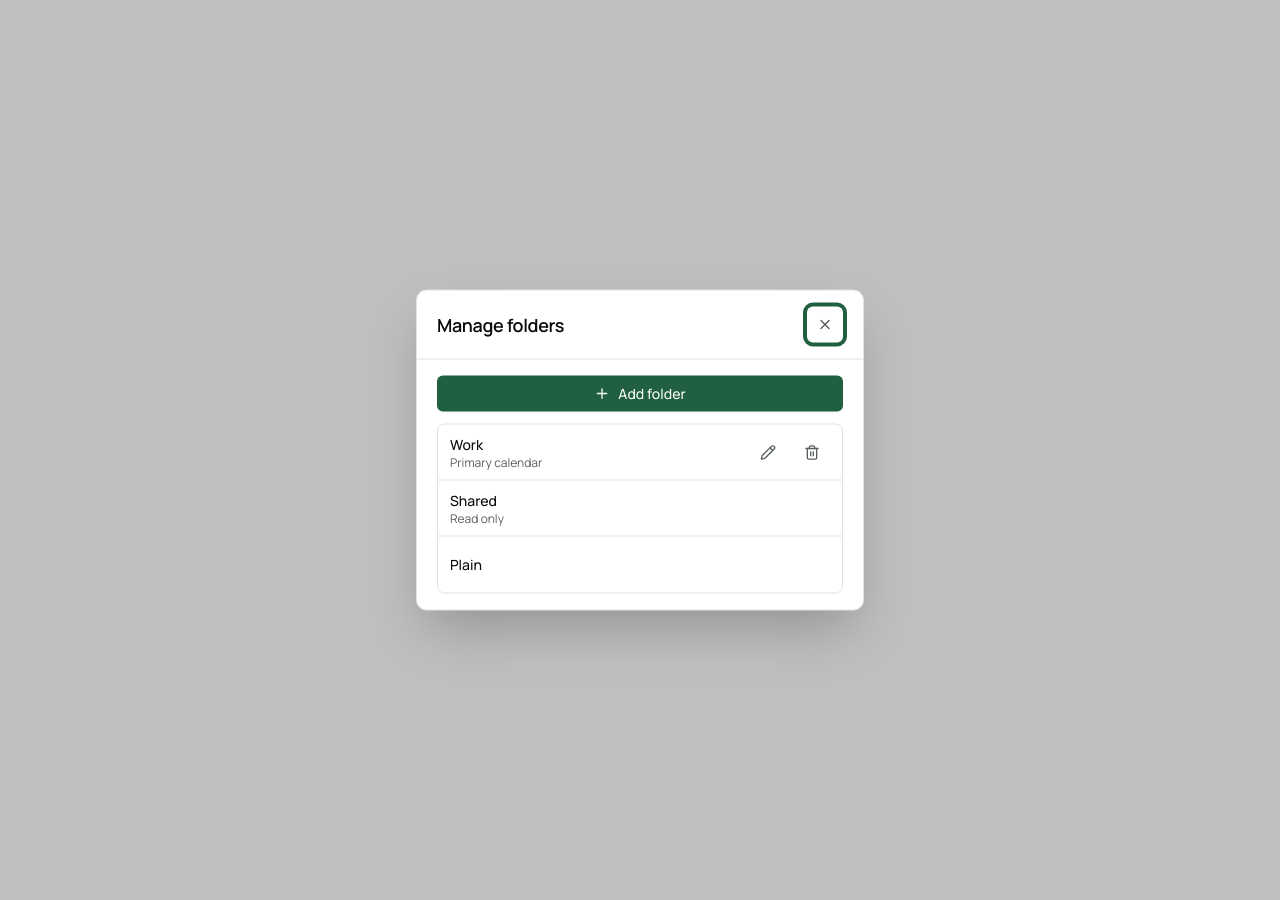
Test: ResourceManagerDialog › edits with generic retry feedback, clears stale errors, and supports cancel
Click the button named "Edit Work" at coordinates (768, 452), box x1=750 y1=434 x2=786 y2=470
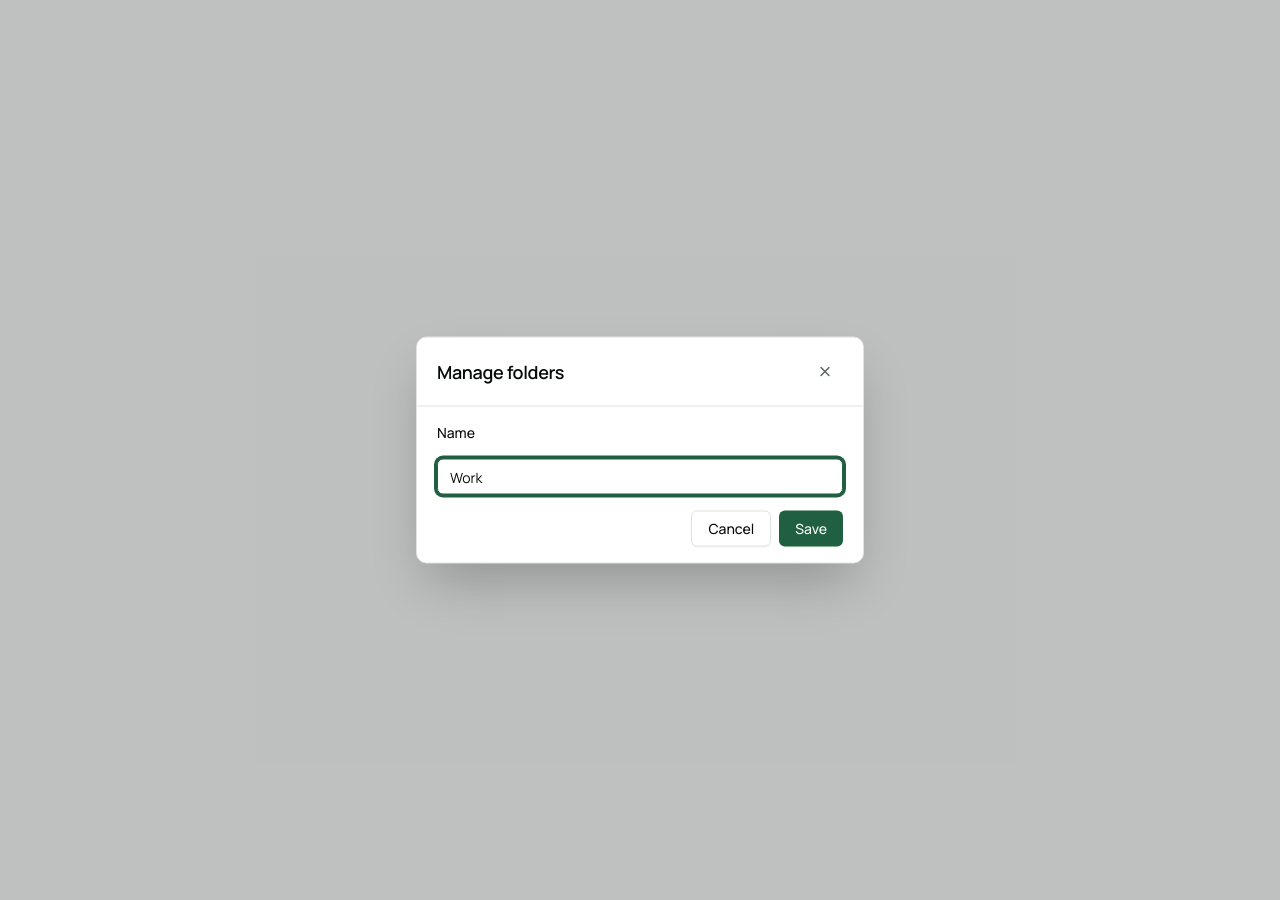
Check: the field labelled "Name" holds "Work"
Replace the text in the field labelled "Name" with "Roadmap" at coordinates (640, 476), box x1=437 y1=458 x2=843 y2=494
Click the button "Save" at coordinates (811, 528), box x1=779 y1=510 x2=843 y2=546
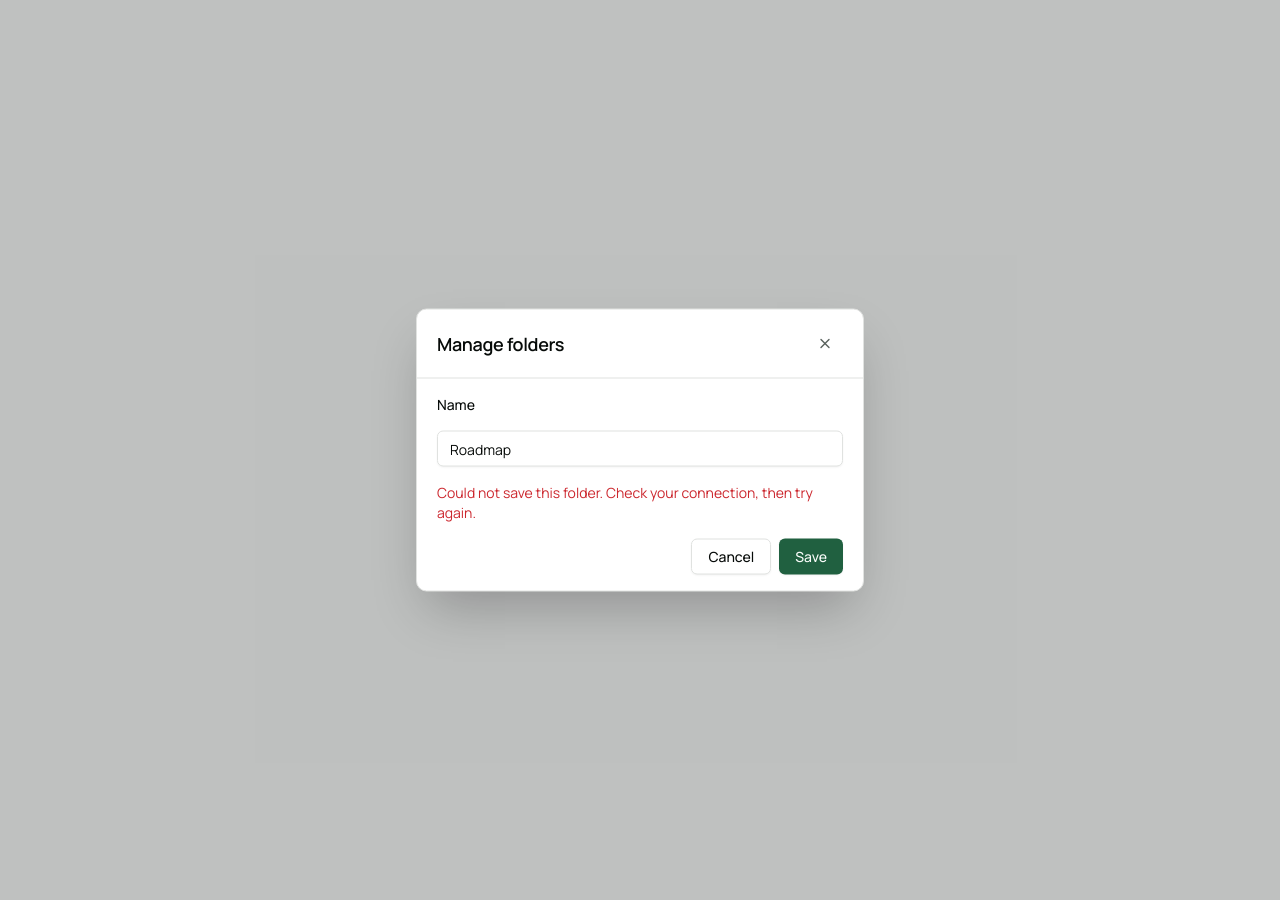
Check: the message reads "Could not save this folder. Check your connection, then try again.", box x1=437 y1=482 x2=813 y2=522
Type " 2" into the field labelled "Name" at coordinates (640, 448), box x1=437 y1=430 x2=843 y2=466
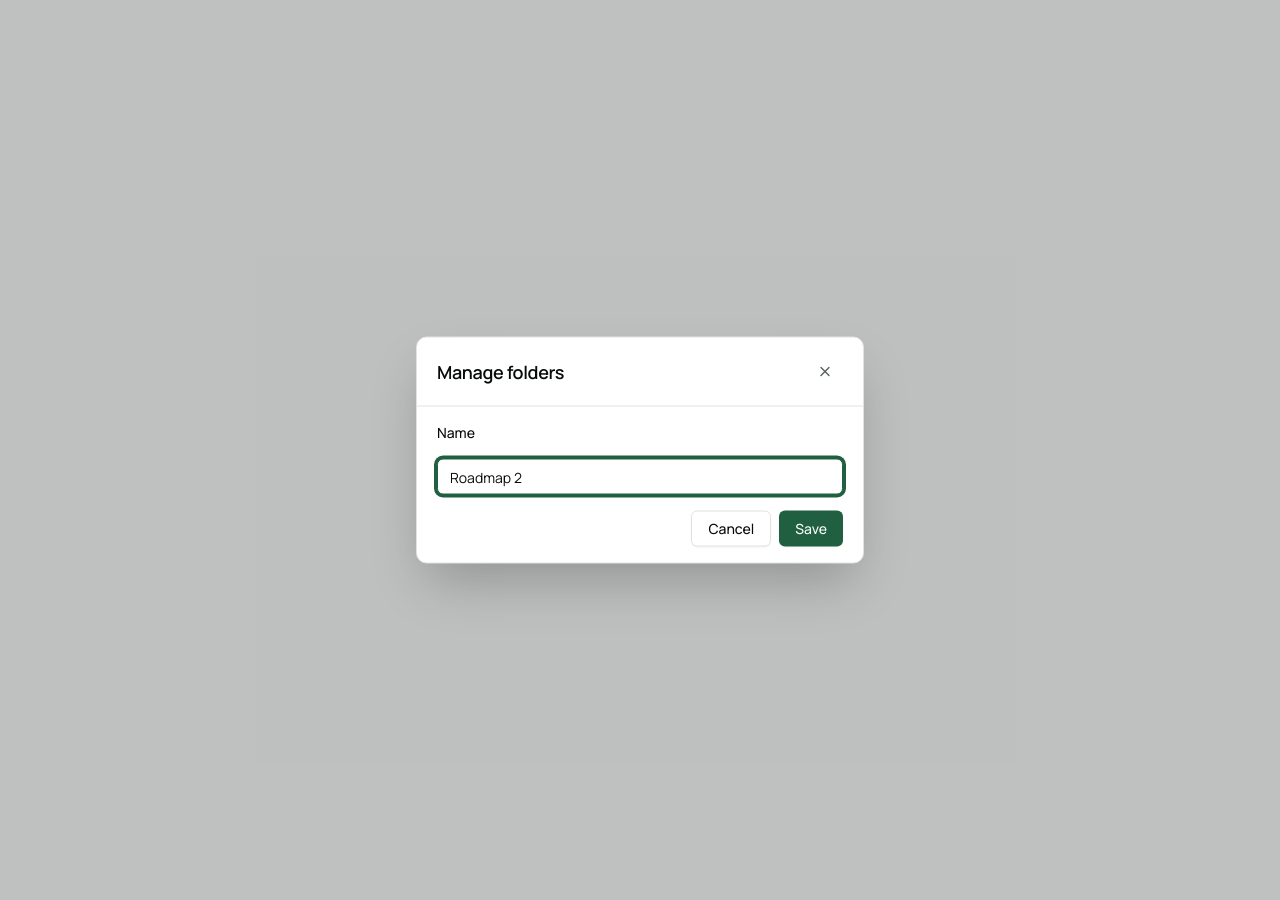
Check: the message "Could not save this folder. Check your connection, then try again." is gone
Click the button "Save" at coordinates (811, 528), box x1=779 y1=510 x2=843 y2=546
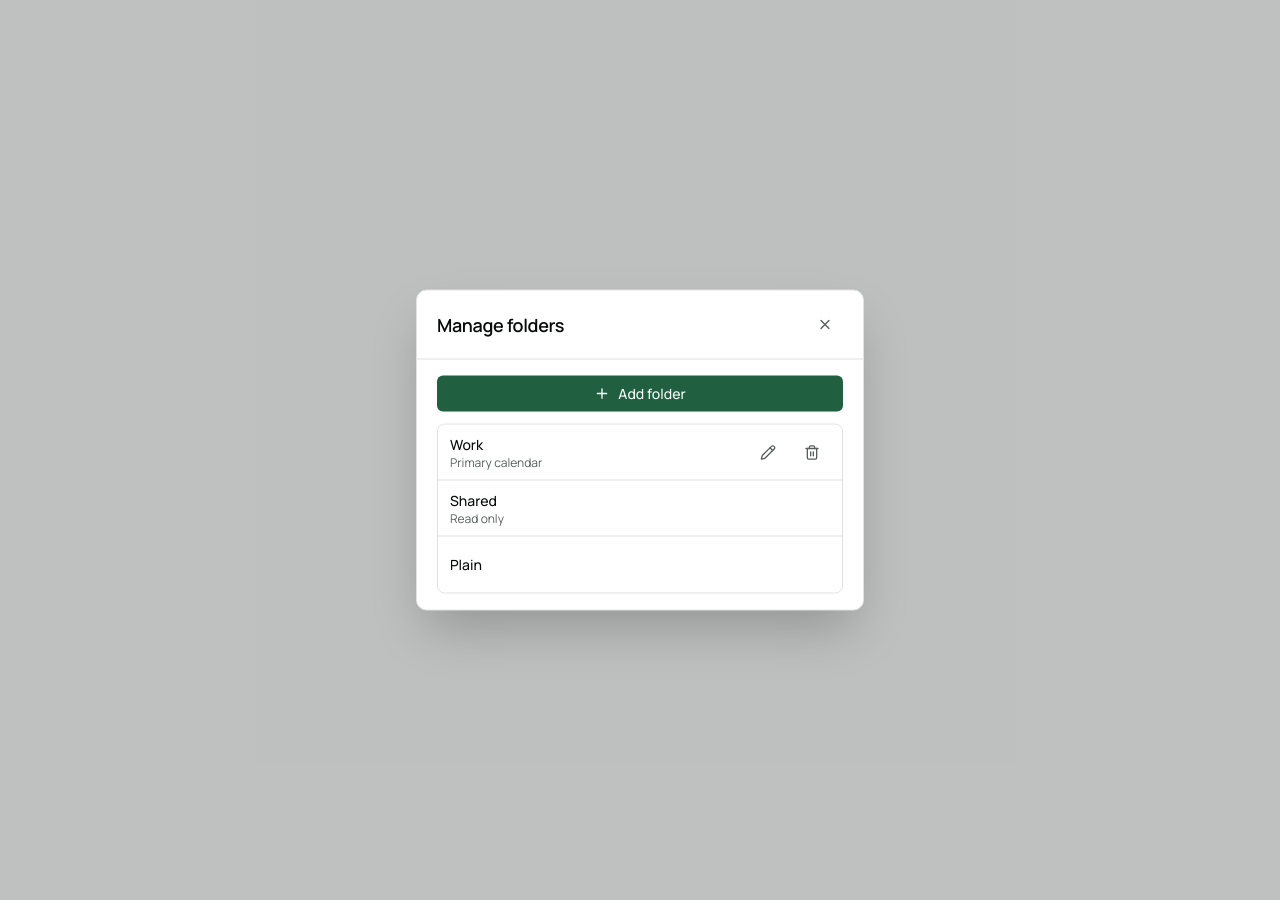
Check: the button "Add folder" is shown, box x1=437 y1=376 x2=843 y2=412
Click the button named "Edit Work" at coordinates (768, 452), box x1=750 y1=434 x2=786 y2=470
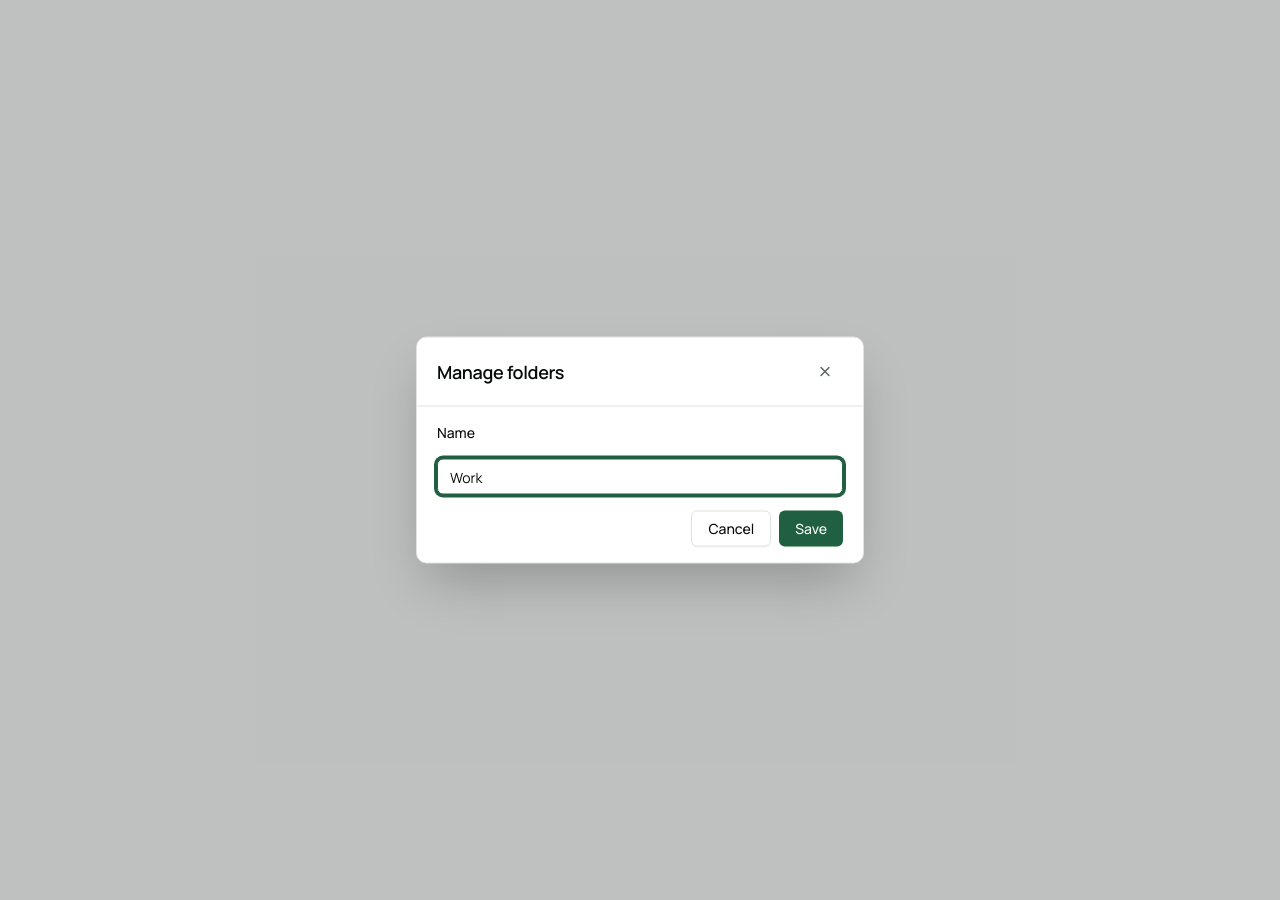
Click the button "Cancel" at coordinates (731, 528), box x1=692 y1=510 x2=771 y2=546
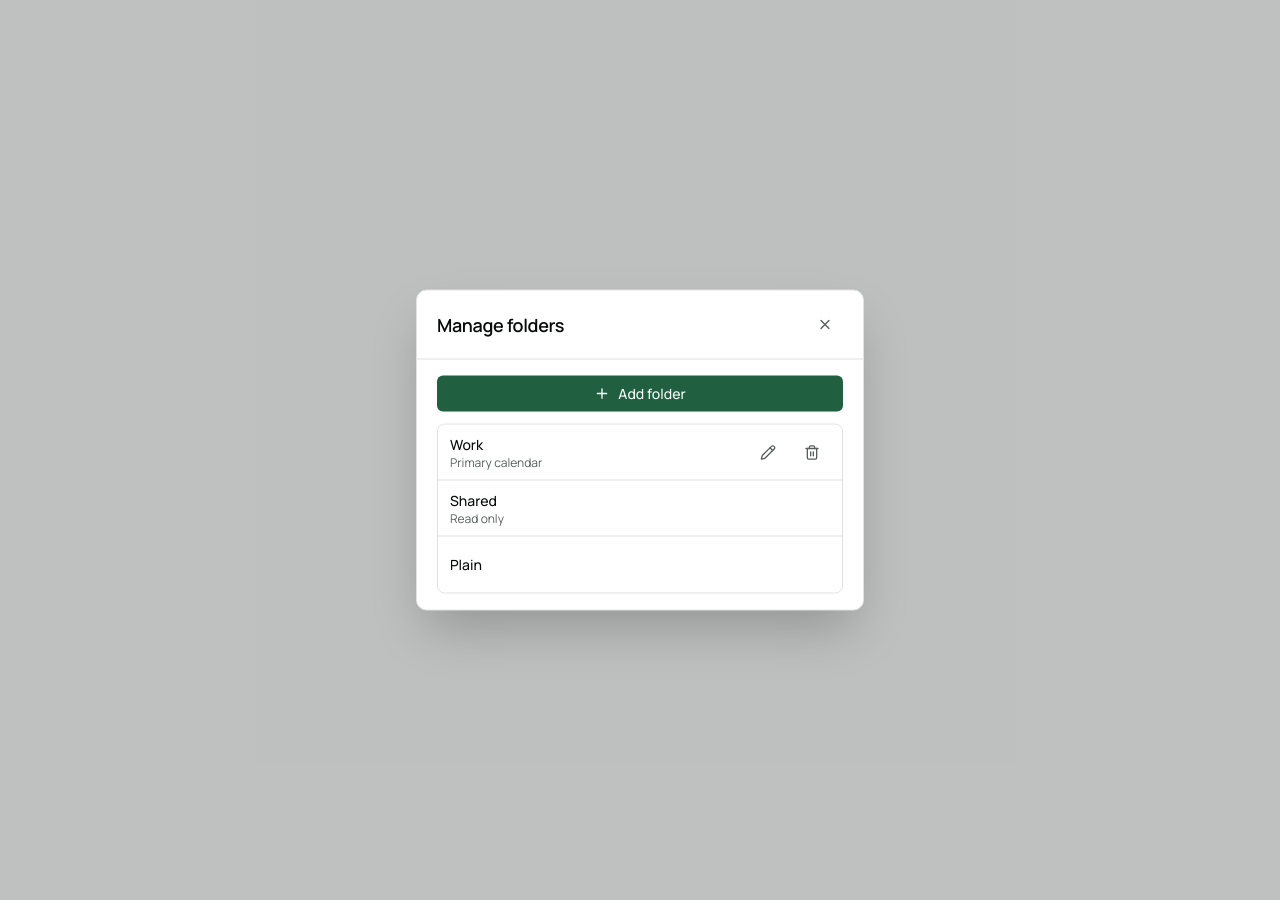
Check: the button "Add folder" is shown, box x1=437 y1=376 x2=843 y2=412
